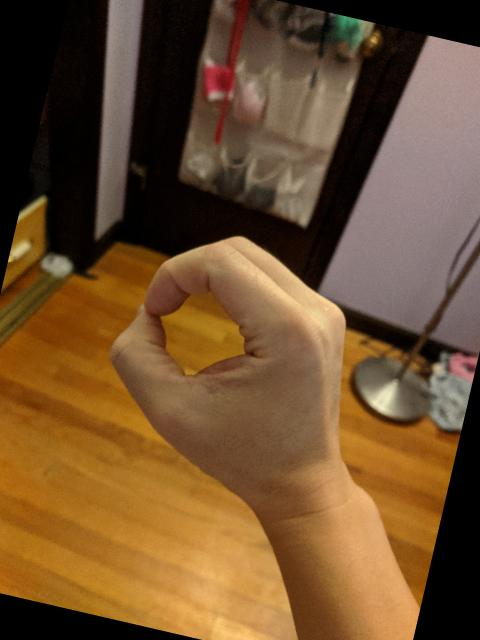O: (76, 207, 386, 527)
